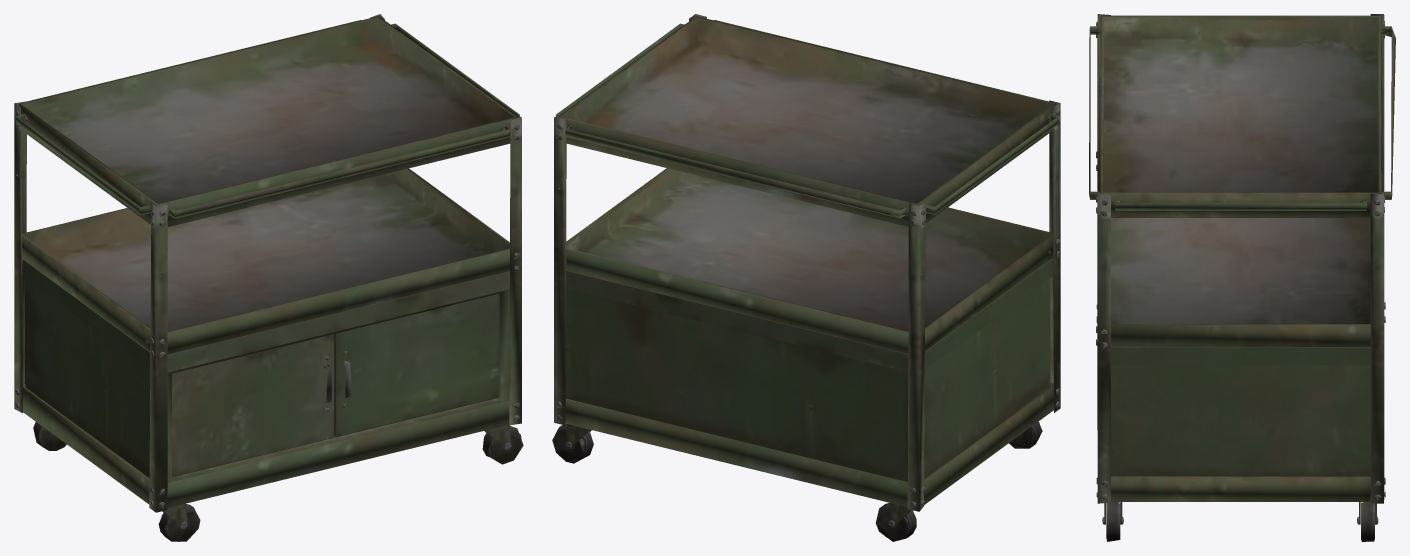
File: industrial_storage_cart.glb
The picture shows the model from 3 angles, left to right: view 1: azimuth 30°, elevation 25°; view 2: azimuth 150°, elevation 25°; view 3: azimuth 270°, elevation 25°; orthographic projection.
Visible parts, largest first — view 1: industrial_storage_cart; view 2: industrial_storage_cart; view 3: industrial_storage_cart.
Boxes of the visible parts, x1,y1,x2,y2 form: industrial_storage_cart: (14,14,523,541); industrial_storage_cart: (552,14,1060,541); industrial_storage_cart: (1089,14,1395,541).
Size of the model in its own units: 1.58 by 1.38 by 1.09.
Materials: 1 (1 with a texture image).
